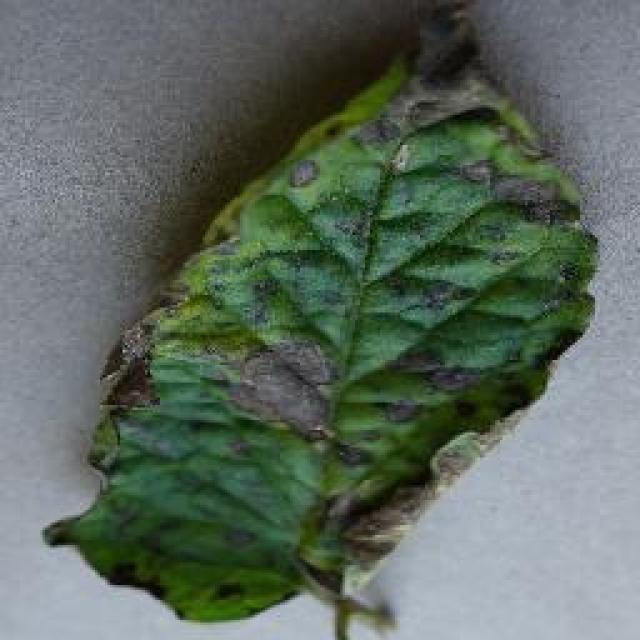Tomato Early blight leaf: (82, 14, 598, 624)
